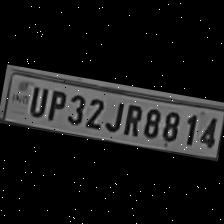1: (177, 108, 200, 145)
2: (82, 92, 106, 130)
3: (62, 88, 87, 125)
4: (195, 110, 220, 148)
8: (139, 101, 164, 139), (158, 104, 182, 142)
J: (102, 94, 124, 132)
P: (43, 84, 68, 122)
R: (119, 98, 144, 137)
U: (24, 80, 48, 116)
